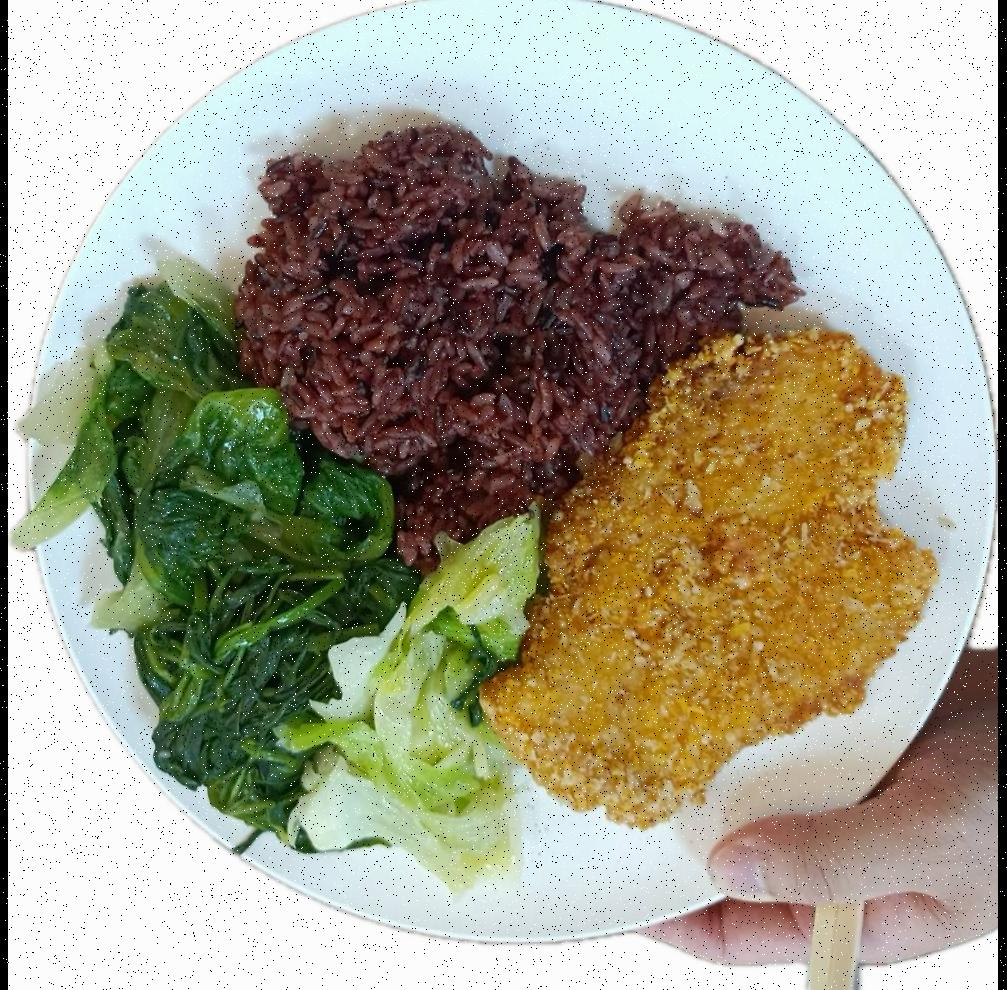big fried chicken leg: (16, 0, 998, 957)
braised fish: (229, 128, 805, 564)
braised fish fillet: (27, 262, 407, 834), (289, 500, 556, 900)
braised pork: (482, 316, 932, 838)
